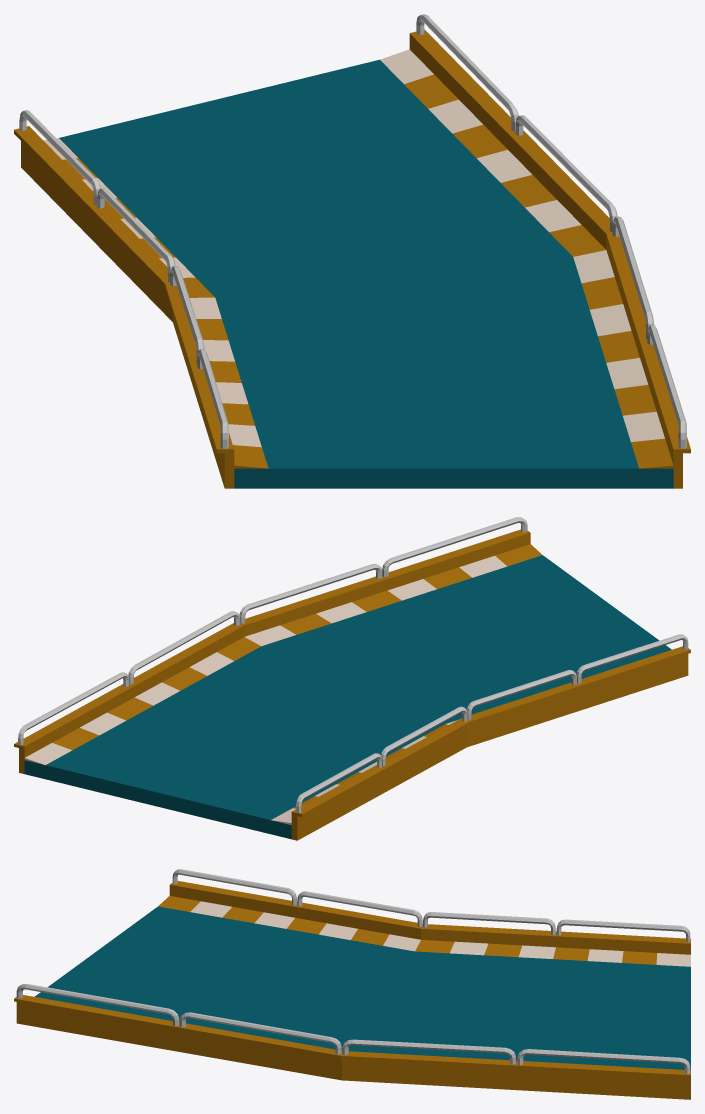
File: curveRight-30_m.FBX
3 views of the same model, one above another, from view 1: azimuth 30°, elevation 25°; view 2: azimuth 150°, elevation 25°; view 3: azimuth 270°, elevation 25° (orthographic). The views are drawn at different scales.
Parts seen in each view (by area): view 1: curveRight-30_m, wall_l, curbs_l, wall_r, curbs_r; view 2: curveRight-30_m, wall_r, wall_l, curbs_l, curbs_r; view 3: curveRight-30_m, wall_l, wall_r, curbs_r.
Boxes of the visible parts, x1,y1,x2,y2 form: curveRight-30_m: [59, 59, 673, 488]; wall_l: [409, 14, 690, 488]; curbs_l: [380, 49, 673, 468]; wall_r: [14, 110, 234, 488]; curbs_r: [43, 138, 268, 468]; curveRight-30_m: [24, 555, 671, 839]; wall_r: [291, 634, 690, 840]; wall_l: [14, 517, 530, 773]; curbs_l: [24, 544, 541, 764]; curbs_r: [271, 720, 457, 824]; curveRight-30_m: [34, 906, 690, 1070]; wall_l: [14, 984, 690, 1099]; wall_r: [169, 869, 690, 954]; curbs_r: [158, 896, 690, 966].
Size of what is drawn, in the model's own units: 295 by 29.31 by 434.
